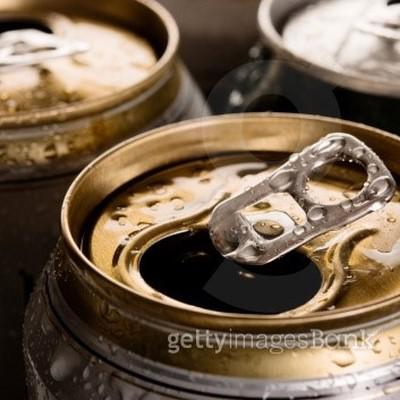beer: (22, 114, 400, 398)
